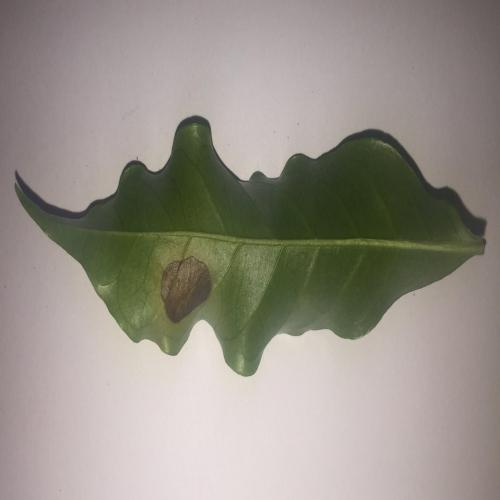leaf: (161, 256, 212, 322)
